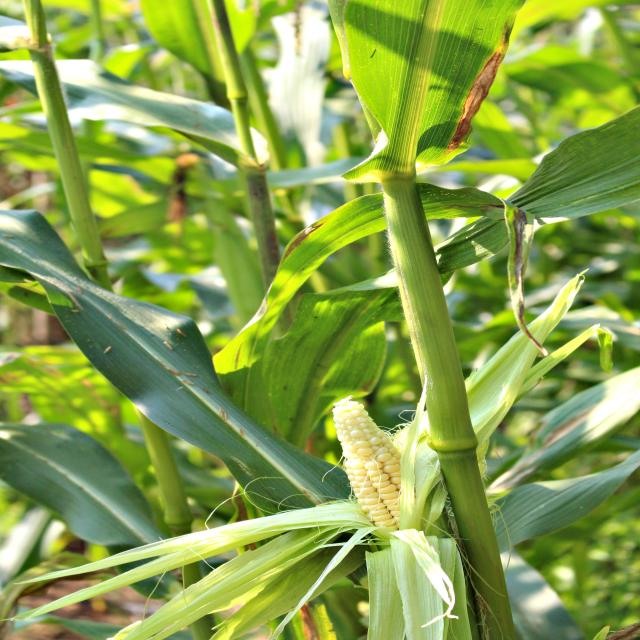corn: (305, 396, 434, 564)
